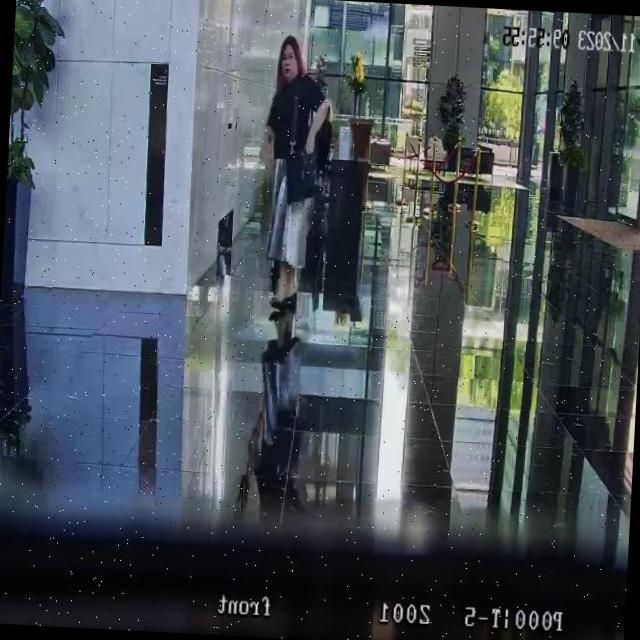person: (252, 34, 336, 316)
